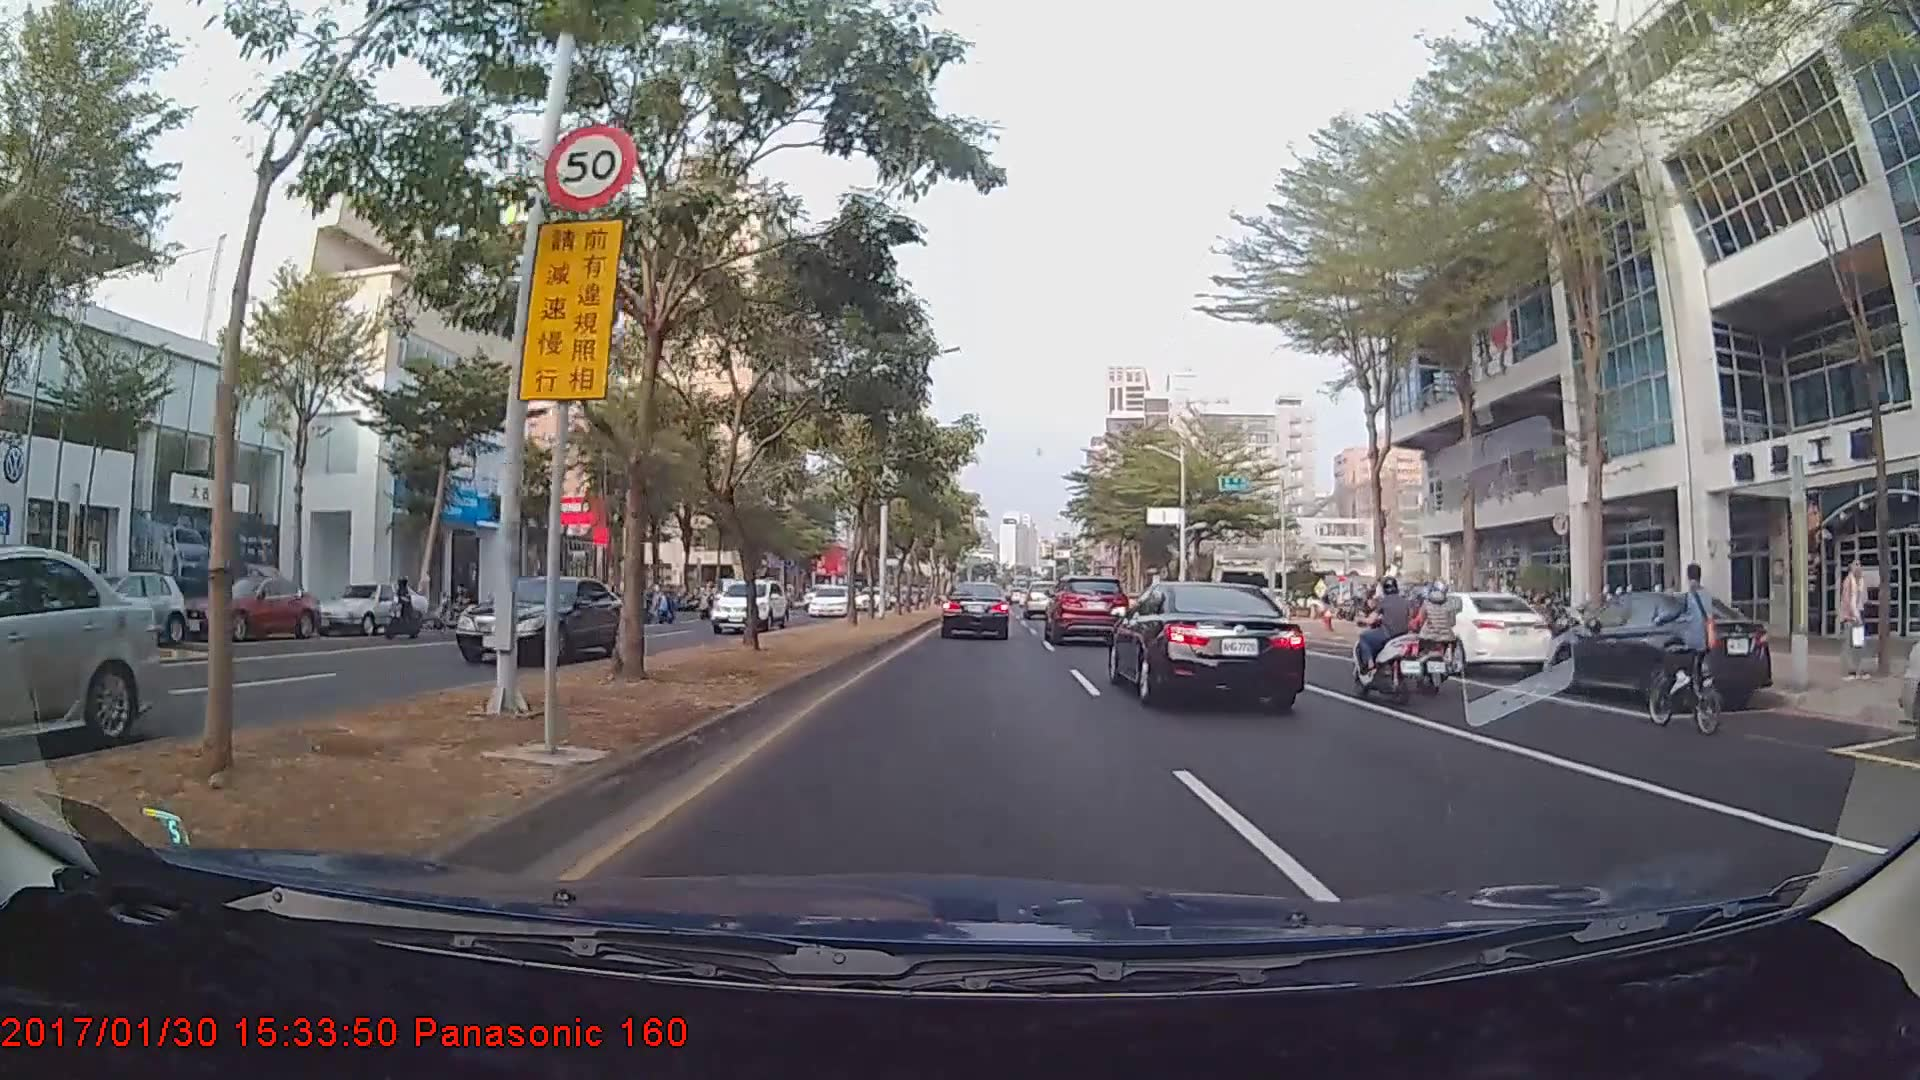pedestrian: (1841, 561, 1870, 682)
rider: (1633, 568, 1744, 745), (1349, 572, 1436, 709), (1407, 578, 1466, 688)
vehicle: (0, 541, 163, 780), (1107, 573, 1308, 712), (1557, 585, 1776, 712), (452, 569, 630, 666), (1397, 589, 1550, 676), (61, 570, 187, 646), (180, 574, 322, 639), (318, 580, 422, 636), (1046, 575, 1125, 645), (707, 575, 788, 633), (940, 579, 1011, 640), (803, 582, 850, 618), (1022, 580, 1059, 619)
